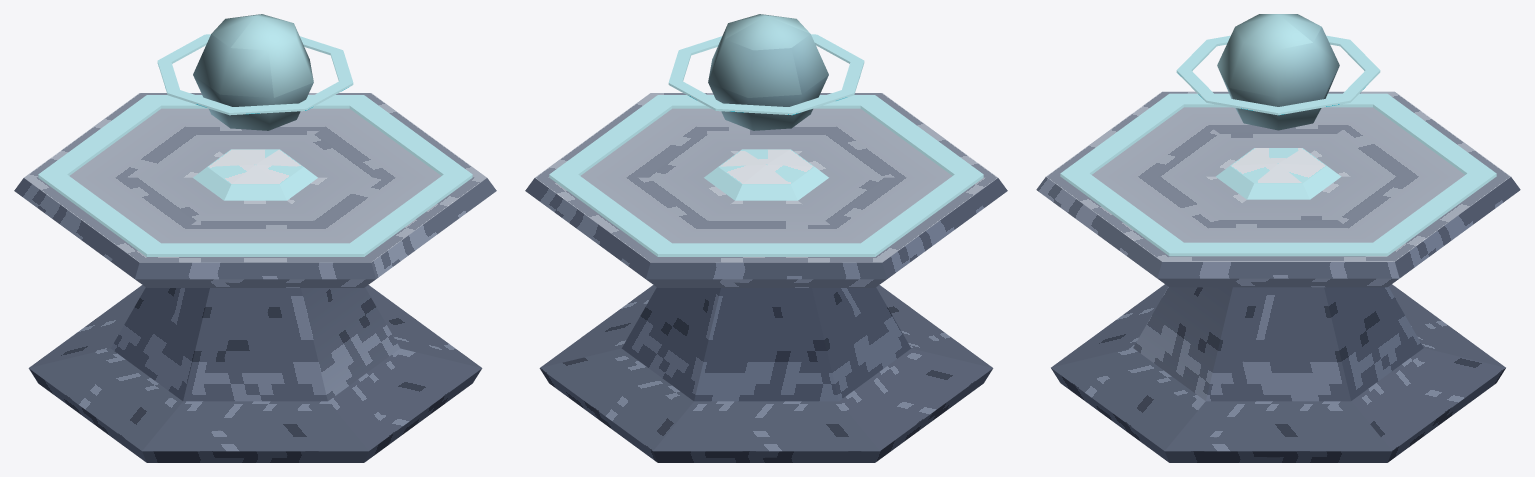
The model's file is tech.holo_table.glb.
3 renders of one model, left to right at view 1: azimuth 30°, elevation 25°; view 2: azimuth 150°, elevation 25°; view 3: azimuth 270°, elevation 25°, orthographic.
Parts seen in each view (by area): view 1: kit_stand, kit_rim, kit_globe, kit_emitter, kit_globe_ring; view 2: kit_stand, kit_rim, kit_globe, kit_emitter, kit_globe_ring; view 3: kit_stand, kit_rim, kit_globe, kit_emitter, kit_globe_ring.
Part boxes in pixels (box(x1,y1,x2,y2)): kit_stand: box(14, 93, 496, 462); kit_rim: box(38, 95, 472, 256); kit_globe: box(193, 14, 313, 130); kit_emitter: box(193, 149, 317, 200); kit_globe_ring: box(157, 34, 353, 115); kit_stand: box(525, 93, 1007, 462); kit_rim: box(549, 95, 983, 256); kit_globe: box(708, 14, 828, 130); kit_emitter: box(704, 149, 828, 200); kit_globe_ring: box(668, 34, 864, 115); kit_stand: box(1036, 91, 1520, 462); kit_rim: box(1060, 93, 1496, 256); kit_globe: box(1217, 14, 1339, 130); kit_emitter: box(1215, 148, 1341, 199); kit_globe_ring: box(1176, 35, 1380, 115).
Bounding box in the file's own units: 1.73 × 1.68 × 2.
Materials: 6 (5 with a texture image).
